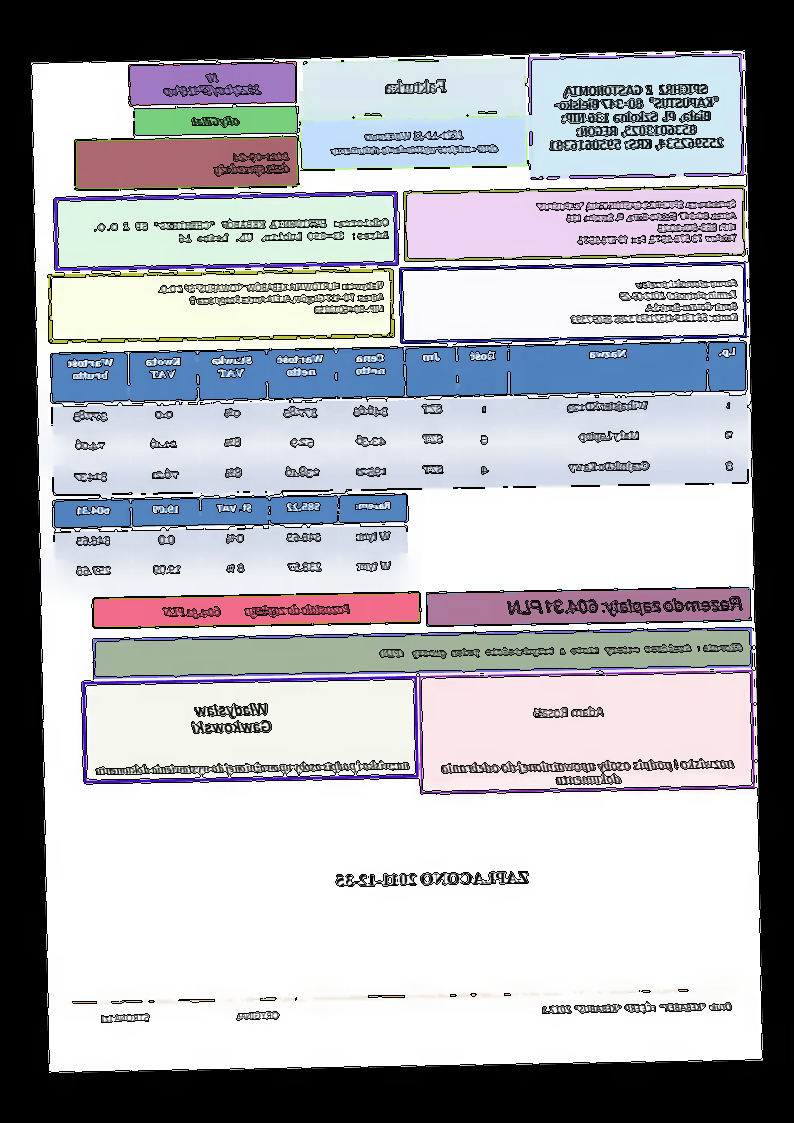Table: (50, 341, 749, 497), (53, 493, 409, 591)
TextBox: (546, 82, 726, 152), (534, 198, 738, 247), (91, 215, 391, 247), (440, 756, 738, 788), (156, 280, 386, 319), (569, 277, 739, 326), (376, 640, 745, 660), (94, 758, 412, 780), (503, 595, 746, 620), (329, 128, 502, 158), (332, 867, 531, 890), (161, 601, 354, 621), (162, 69, 266, 101), (540, 1000, 734, 1017), (190, 699, 273, 736), (212, 152, 292, 179), (383, 78, 449, 97), (533, 705, 608, 720), (189, 114, 243, 130), (100, 1013, 152, 1025), (236, 1010, 282, 1022)
